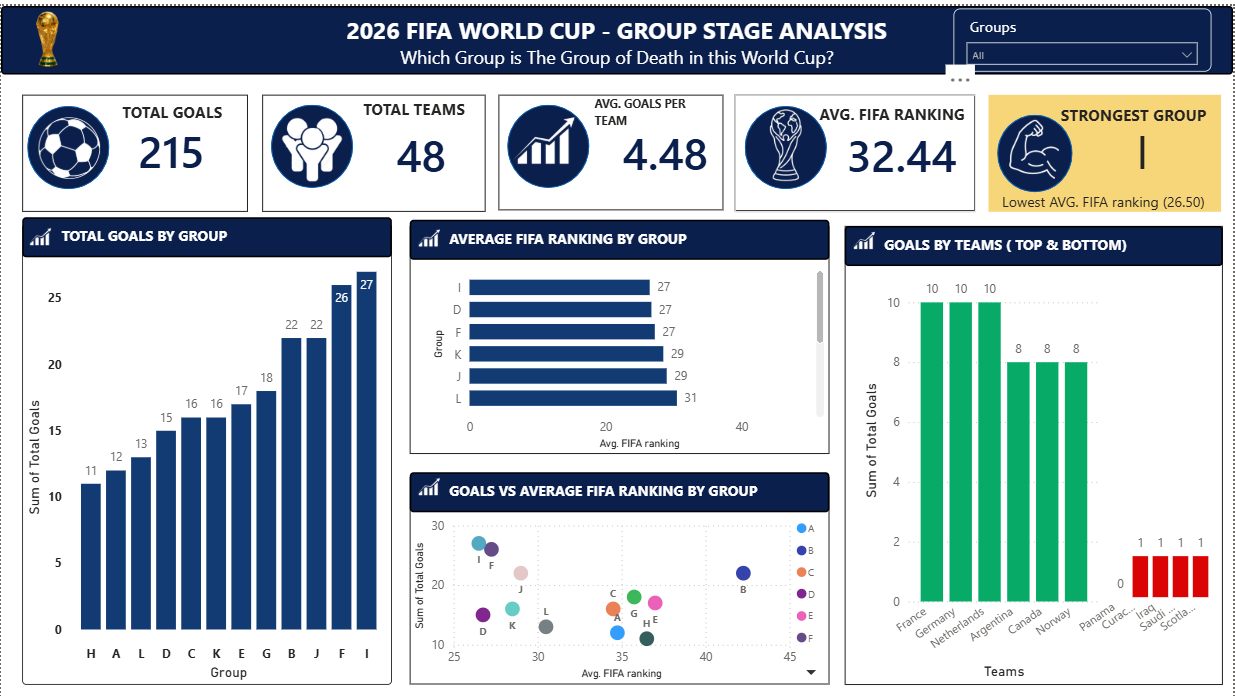

What the dashboard file says about the page in this screenshot:
{"tool":"powerbi","page":{"name":"Page 2","canvas":[1280,720],"ordinal":1},"visuals":[{"type":"textbox","box":[0,0,1280.2,71.1],"z":0},{"type":"image","box":[0,0,97.1,71.1],"z":1000},{"type":"textbox","box":[1025.6,92.4,241.6,122],"z":2000},{"type":"textbox","box":[0,35.5,1280.2,35.5],"z":3000},{"type":"shape","box":[1035.1,113,78.2,80.5],"z":4000},{"type":"slicer","fields":{"Values":["Dim_Group.Group"]},"box":[989.5,2.7,267.7,65.8],"z":5000},{"type":"cardVisual","fields":{"Data":["Sum(Dim_Group.Goals)"]},"box":[97.1,79.3,159.9,140.9],"z":6000},{"type":"textbox","box":[22.5,91.7,234.5,122],"z":7000},{"type":"shape","box":[27.7,103.7,85.3,86.5],"z":8000},{"type":"cardVisual","fields":{"Data":["Dim_Group.Total Teams"]},"box":[355.3,80.5,161.1,144.5],"z":9000},{"type":"textbox","box":[271.2,91.7,232.1,122],"z":10000},{"type":"shape","box":[280.7,102.1,85.3,86.5],"z":11000},{"type":"cardVisual","fields":{"Data":["Dim_Group.Avg Goals per Group"]},"box":[600.4,79.3,180,143.3],"z":12000},{"type":"textbox","box":[516.4,92.8,233.3,119.6],"z":13000},{"type":"shape","box":[526.1,103.1,85.3,86.5],"z":14000},{"type":"cardVisual","fields":{"Data":["Dim_Group.Avg. FIFA ranking"]},"box":[846.8,81,178.8,145.7],"z":15000},{"type":"textbox","box":[762.7,92.8,249.9,120.8],"z":16000},{"type":"shape","box":[772.5,104,85.3,86.5],"z":17000},{"type":"textbox","box":[1159.4,112.5,52.1,75.8],"z":18000},{"type":"textbox","box":[111.3,93.6,132.6,36.7],"z":19000},{"type":"textbox","box":[355.3,91.2,146.9,39.1],"z":20000},{"type":"textbox","box":[611.1,87.6,127.9,54.5],"z":21000},{"type":"textbox","box":[838.5,95.9,174.1,34.3],"z":22000},{"type":"textbox","box":[1096.7,97.8,170,48.9],"z":23000},{"type":"textbox","box":[1035.1,188.3,234.5,30.8],"z":24000},{"type":"image","box":[29,115.2,85,63.8],"z":25000},{"type":"image","box":[267.5,100,111.2,98.8],"z":26000},{"type":"image","box":[483.8,60,160,150],"z":27000},{"type":"image","box":[738.8,97.5,152.5,98.8],"z":28000},{"type":"image","box":[1017.5,101.2,112.5,98.8],"z":29000},{"type":"textbox","box":[22.2,225.9,384,479],"z":30000},{"type":"columnChart","fields":{"Category":["Dim_Group.Group"],"Y":["Sum(Dim_Group.Goals)"]},"box":[22.2,261.7,384,443.2],"z":31000},{"type":"textbox","box":[22.2,219.8,384,42],"z":32000},{"type":"image","box":[10.9,210.2,59.2,55.1],"z":33000},{"type":"textbox","box":[424.5,228.4,435.8,237],"z":34000},{"type":"textbox","box":[424.8,222.6,435.8,41.5],"z":35000},{"type":"textbox","box":[424.5,490.1,435.8,214.8],"z":36000},{"type":"textbox","box":[424.5,484,435.8,42],"z":37000},{"type":"image","box":[414.8,211.1,59.3,55.6],"z":38000},{"type":"clusteredBarChart","fields":{"Category":["Dim_Group.Group"],"Y":["Dim_Group.Avg. FIFA ranking"]},"box":[444.4,261.7,416,203.7],"z":39000},{"type":"image","box":[414.8,470.4,59.3,55.6],"z":40000},{"type":"scatterChart","fields":{"X":["Dim_Group.Avg. FIFA ranking"],"Y":["Sum(Dim_Group.Total Goals)"],"Series":["Dim_Group.Group"]},"box":[424.7,525.9,435.8,179],"z":41000},{"type":"textbox","box":[876.5,228.4,392.6,476.5],"z":42000},{"type":"textbox","box":[876.5,228.4,392.6,42],"z":43000},{"type":"image","box":[866.7,214.8,59.3,55.6],"z":44000},{"type":"columnChart","fields":{"Category":["Dim_Group.Teams"],"Y":["Sum(Dim_Group.Total Goals)"]},"box":[891.4,270.4,255.6,434.6],"z":45000},{"type":"columnChart","fields":{"Category":["Dim_Group.Teams"],"Y":["Sum(Dim_Group.Total Goals)","select"]},"box":[1111.1,533.3,156.8,129.6],"z":46000}]}

Visuals, with their boxes in screenshot pixels (x1, y1, x2, y2), scaled from the page's 1280x720 canvas onto the 1235x696 screenshot:
textbox: locate(0, 0, 1234, 69)
image: locate(0, 0, 94, 69)
textbox: locate(990, 89, 1223, 207)
textbox: locate(0, 34, 1234, 69)
shape: locate(999, 109, 1074, 187)
slicer - Dim_Group.Group: locate(955, 3, 1213, 66)
cardVisual - Sum(Dim_Group.Goals): locate(94, 77, 248, 213)
textbox: locate(22, 89, 248, 207)
shape: locate(27, 100, 109, 184)
cardVisual - Dim_Group.Total Teams: locate(343, 78, 498, 218)
textbox: locate(262, 89, 486, 207)
shape: locate(271, 99, 353, 182)
cardVisual - Dim_Group.Avg Goals per Group: locate(579, 77, 753, 215)
textbox: locate(498, 90, 723, 205)
shape: locate(508, 100, 590, 183)
cardVisual - Dim_Group.Avg. FIFA ranking: locate(817, 78, 990, 219)
textbox: locate(736, 90, 977, 206)
shape: locate(745, 101, 828, 184)
textbox: locate(1119, 109, 1169, 182)
textbox: locate(107, 90, 235, 126)
textbox: locate(343, 88, 485, 126)
textbox: locate(590, 85, 713, 137)
textbox: locate(809, 93, 977, 126)
textbox: locate(1058, 95, 1222, 142)
textbox: locate(999, 182, 1225, 212)
image: locate(28, 111, 110, 173)
image: locate(258, 97, 365, 192)
image: locate(467, 58, 621, 203)
image: locate(713, 94, 860, 190)
image: locate(982, 98, 1090, 193)
textbox: locate(21, 218, 392, 681)
columnChart - Dim_Group.Group x Sum(Dim_Group.Goals): locate(21, 253, 392, 681)
textbox: locate(21, 212, 392, 253)
image: locate(11, 203, 68, 256)
textbox: locate(410, 221, 830, 450)
textbox: locate(410, 215, 830, 255)
textbox: locate(410, 474, 830, 681)
textbox: locate(410, 468, 830, 508)
image: locate(400, 204, 457, 258)
clusteredBarChart - Dim_Group.Group x Dim_Group.Avg. FIFA ranking: locate(429, 253, 830, 450)
image: locate(400, 455, 457, 508)
scatterChart - Dim_Group.Avg. FIFA ranking x Sum(Dim_Group.Total Goals): locate(410, 508, 830, 681)
textbox: locate(846, 221, 1224, 681)
textbox: locate(846, 221, 1224, 261)
image: locate(836, 208, 893, 261)
columnChart - Dim_Group.Teams x Sum(Dim_Group.Total Goals): locate(860, 261, 1107, 682)
columnChart - Dim_Group.Teams x Sum(Dim_Group.Total Goals): locate(1072, 516, 1223, 641)
